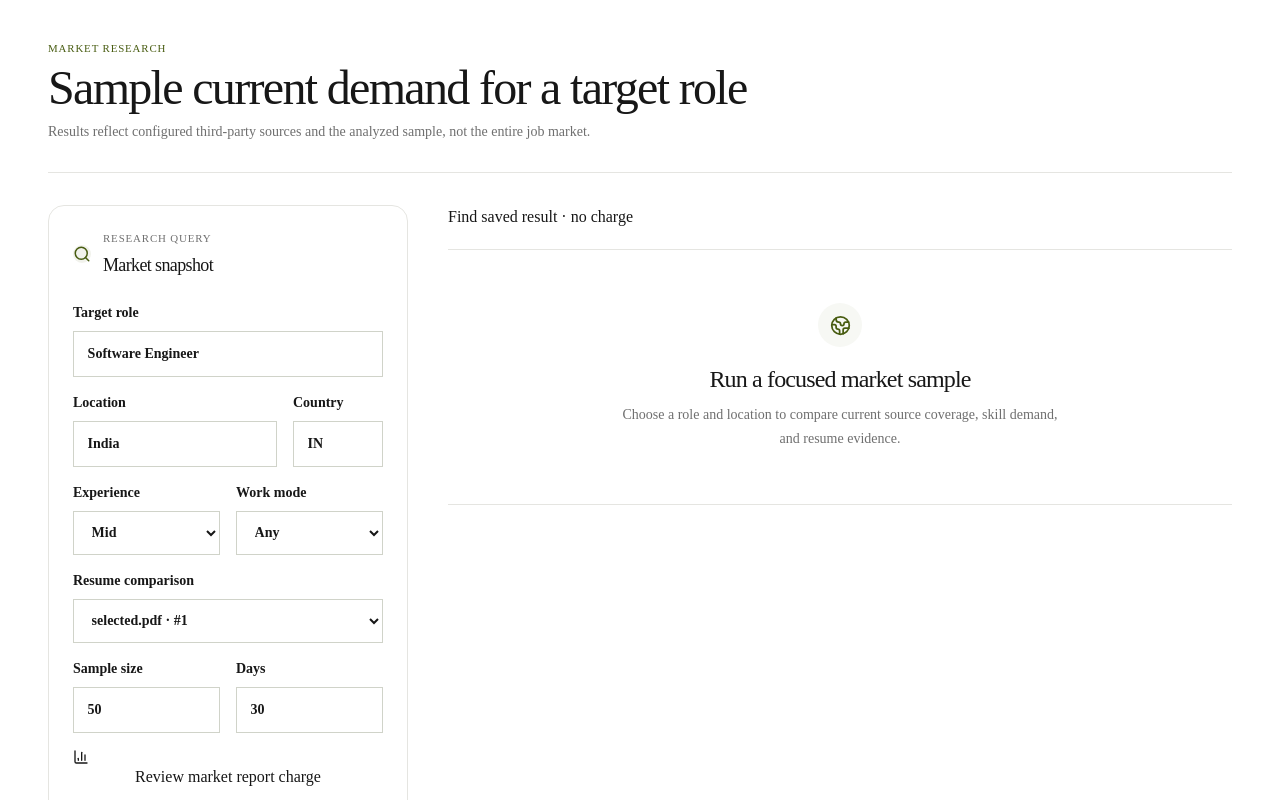
Test: a saved-result lookup never starts new work when no report exists
Click the button with aria-label "Find saved result for Market report · no charge": (540, 217) [448,205,633,229]
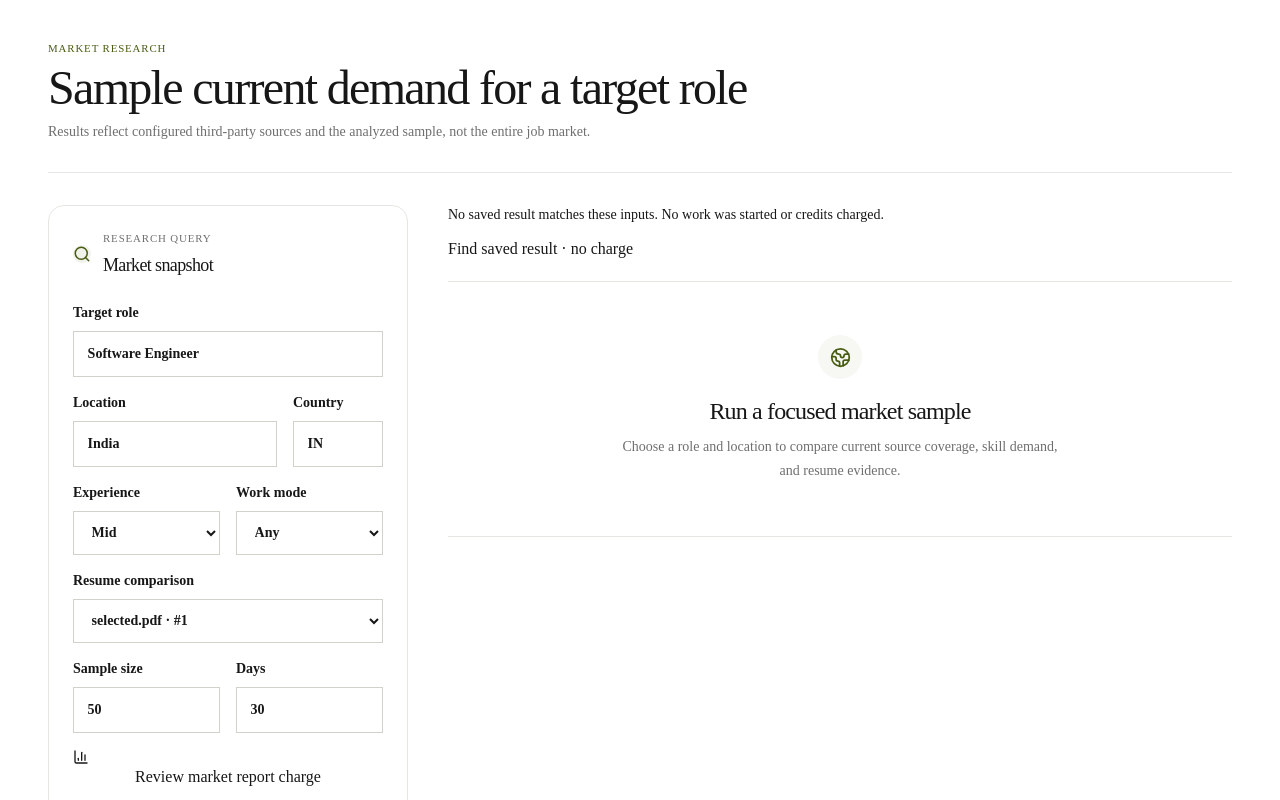
Result: the text "No saved result matches these inputs. No work was started or credits charged." is shown at [448,207,884,222]
